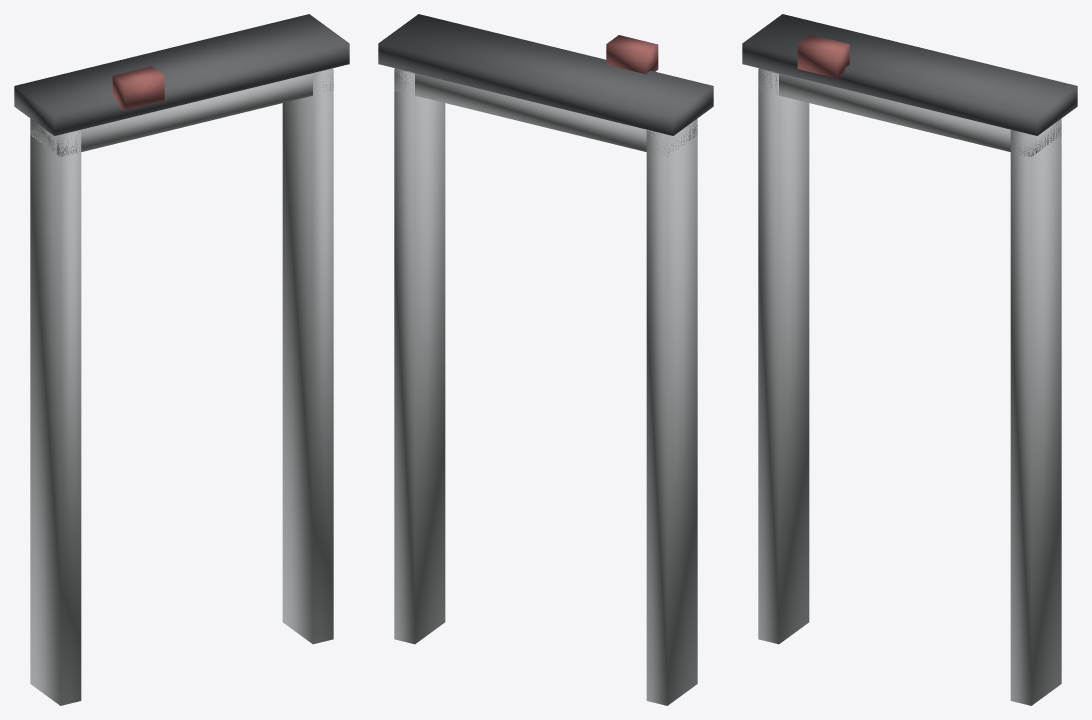
File: doorway_fire_rated_w106_h240_d24.glb
3 renders of one model, left to right at view 1: azimuth 30°, elevation 25°; view 2: azimuth 150°, elevation 25°; view 3: azimuth 330°, elevation 25°, orthographic.
Visible parts, largest first — view 1: world; view 2: world; view 3: world.
Boxes of the visible parts, x1,y1,x2,y2 form: world: (14, 14, 349, 705); world: (378, 14, 713, 705); world: (742, 14, 1077, 705).
Size of the model in its own units: 1.35 by 2.7 by 0.38.
